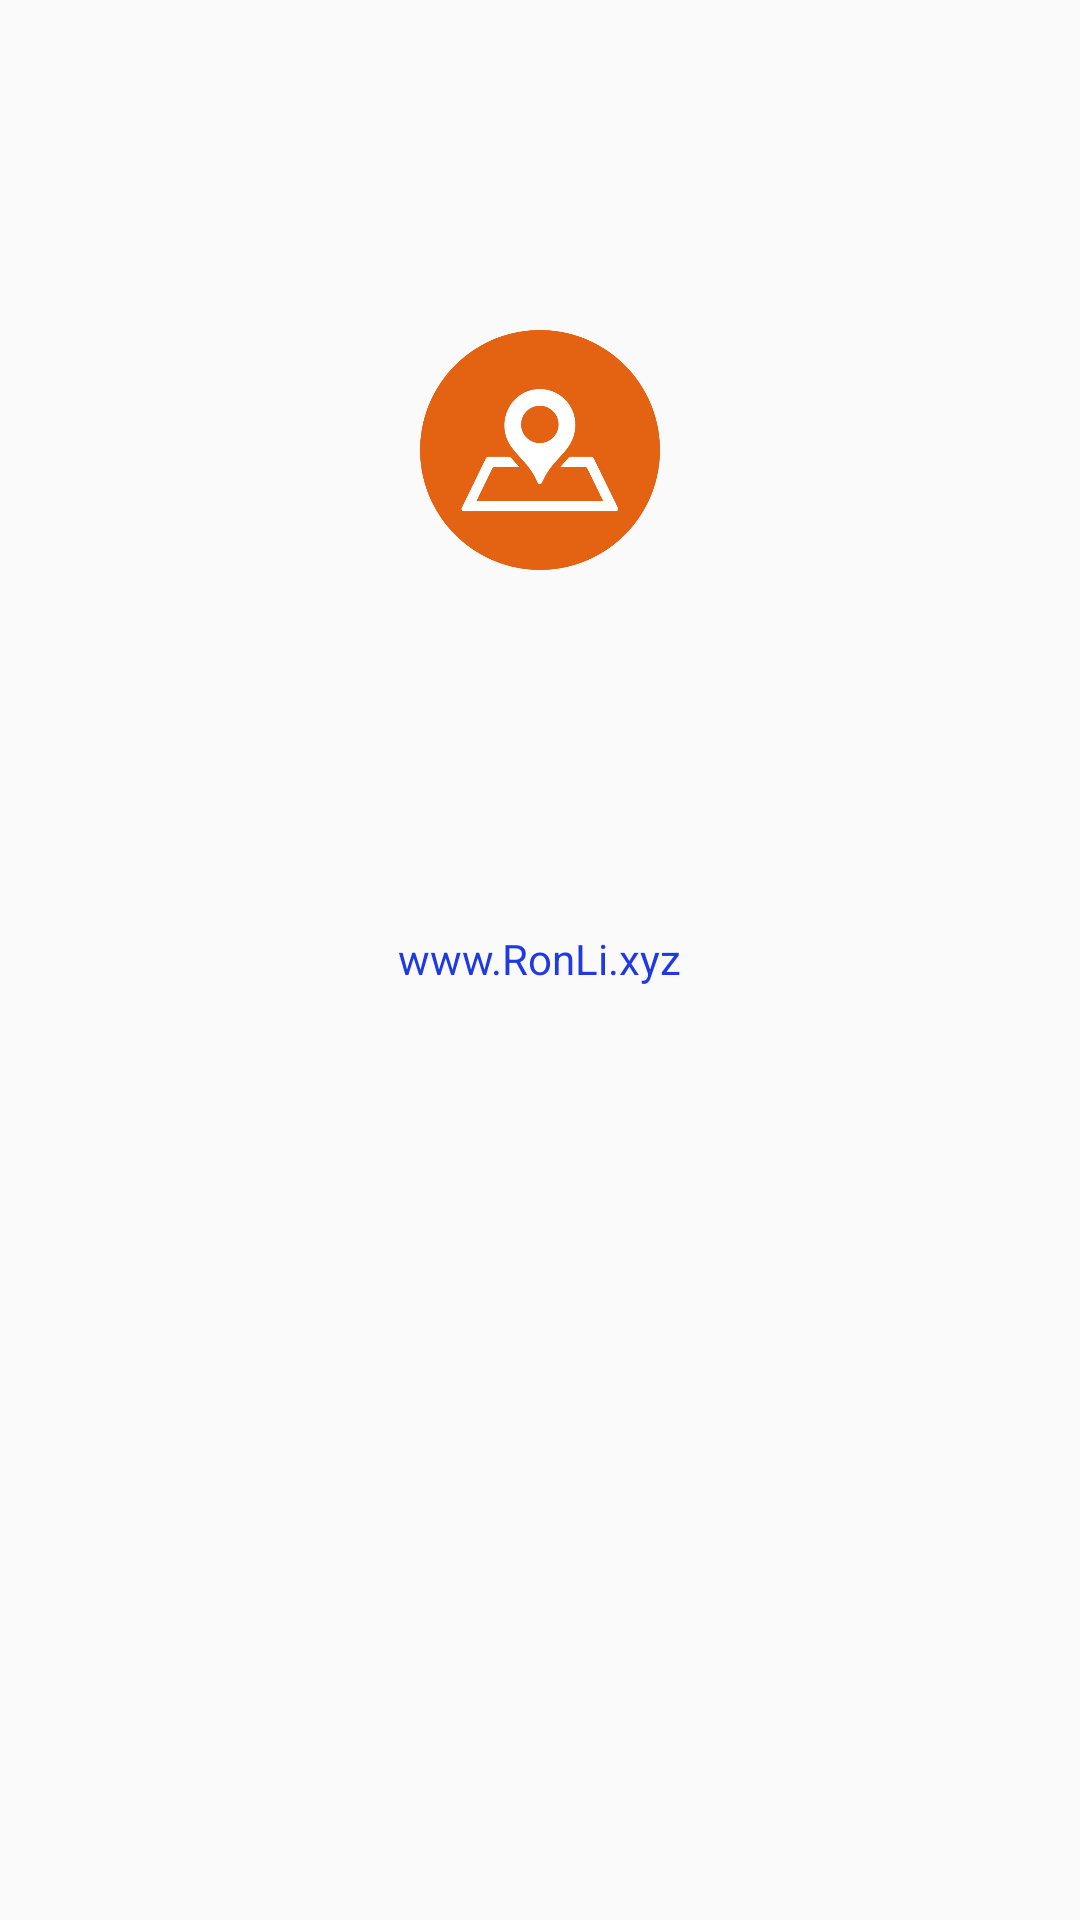

Icon bounding boxes for this 1080w x 1920h phone screenshot, format [x1,y1,x2,y2]:
locate: [420,330,660,570]
